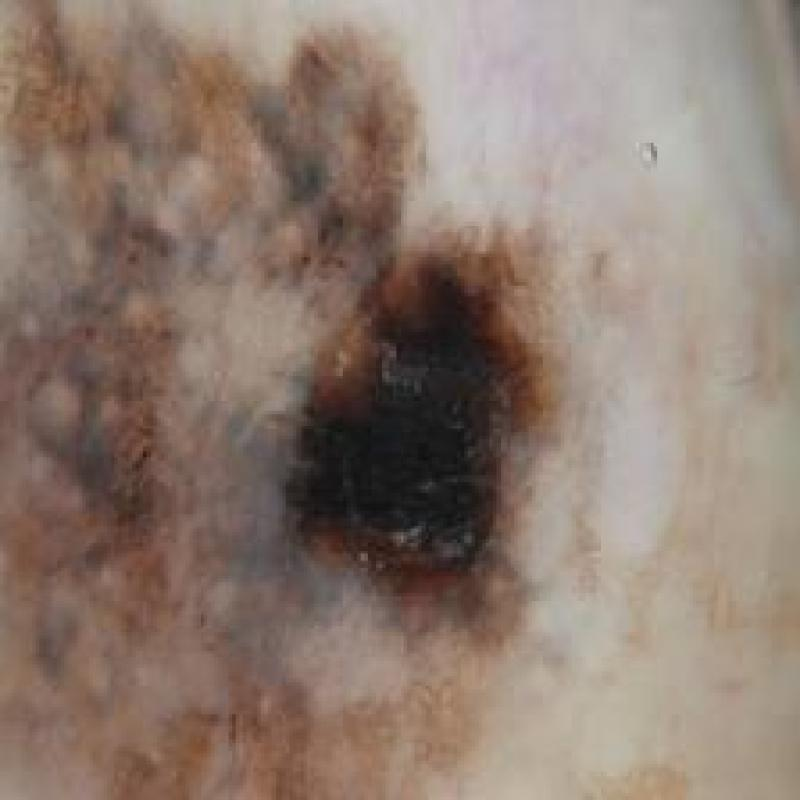malignant: (5, 0, 506, 800), (275, 210, 599, 648)
